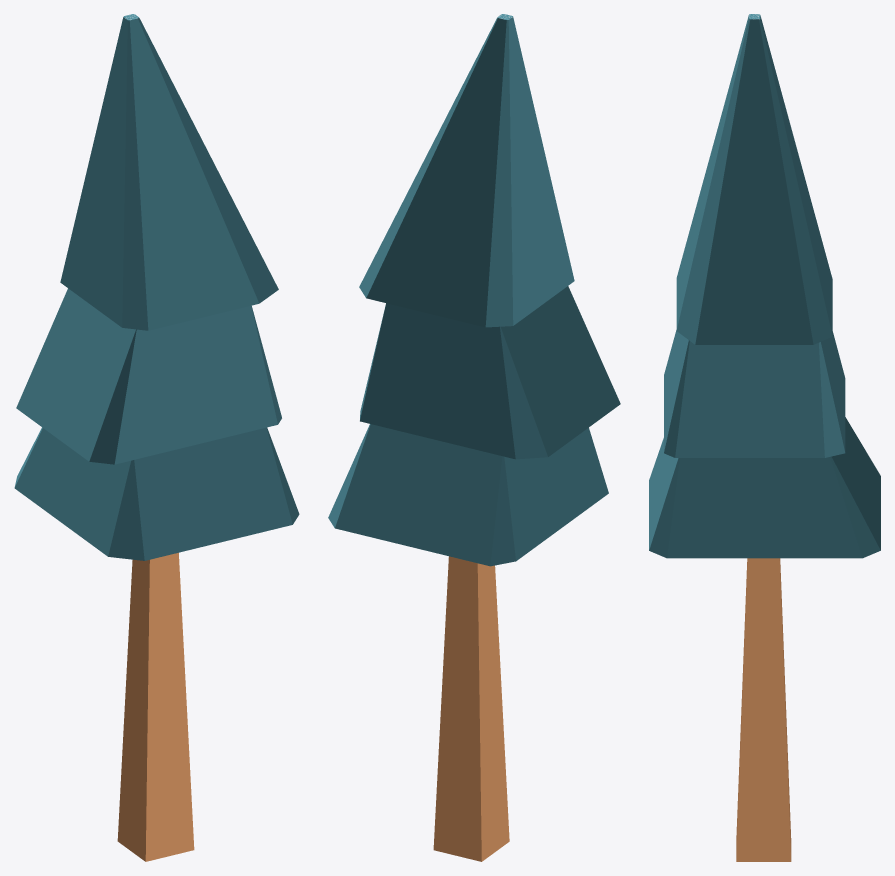
Rendered from tree_pine_shortSquare.obj.
The picture shows the model from 3 angles, left to right: view 1: azimuth 30°, elevation 25°; view 2: azimuth 150°, elevation 25°; view 3: azimuth 270°, elevation 25°; orthographic projection. The views are drawn at different scales.
Parts seen in each view (by area): view 1: tree_pine_shortSquare; view 2: tree_pine_shortSquare; view 3: tree_pine_shortSquare.
Boxes of the visible parts, x1,y1,x2,y2 form: tree_pine_shortSquare: (14, 14, 299, 861); tree_pine_shortSquare: (328, 14, 620, 861); tree_pine_shortSquare: (649, 14, 880, 861).
Bounding box in the file's own units: 3.86 × 15.3 × 3.92.
